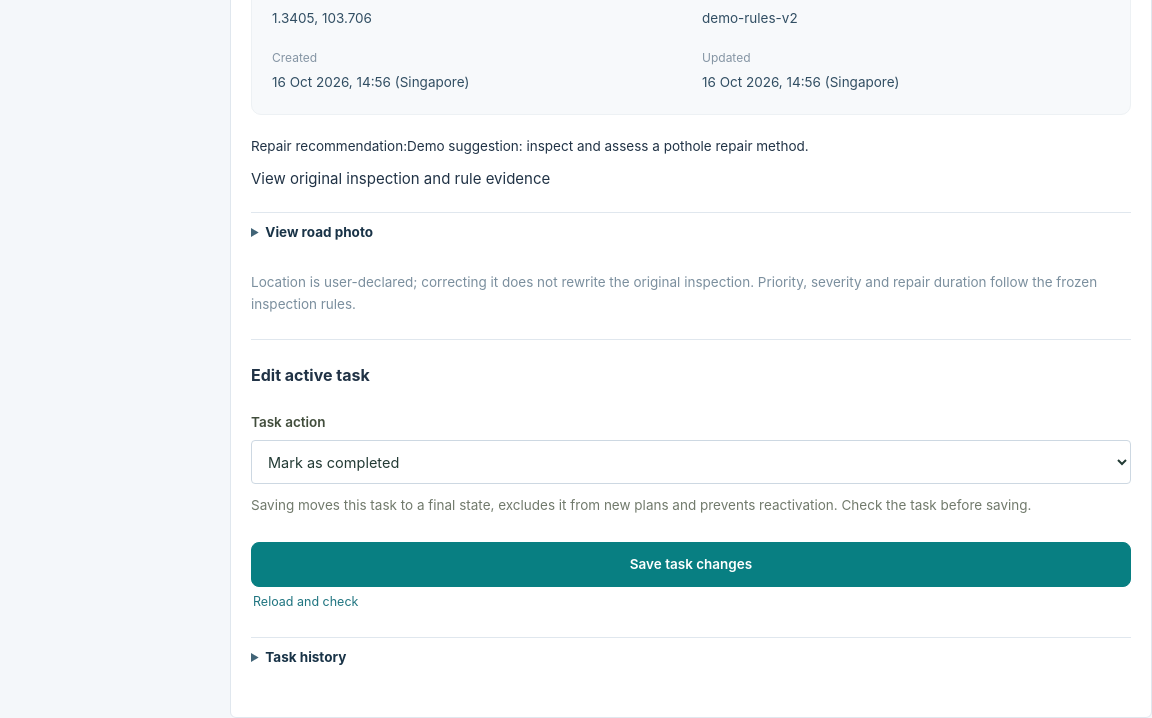
Test: locks editing and retries the exact original operation after unknown outcome
(page scrolled)
Step 1. Click the button "Save task changes" → (691, 564), box [251, 542, 1131, 587]
(page scrolled)
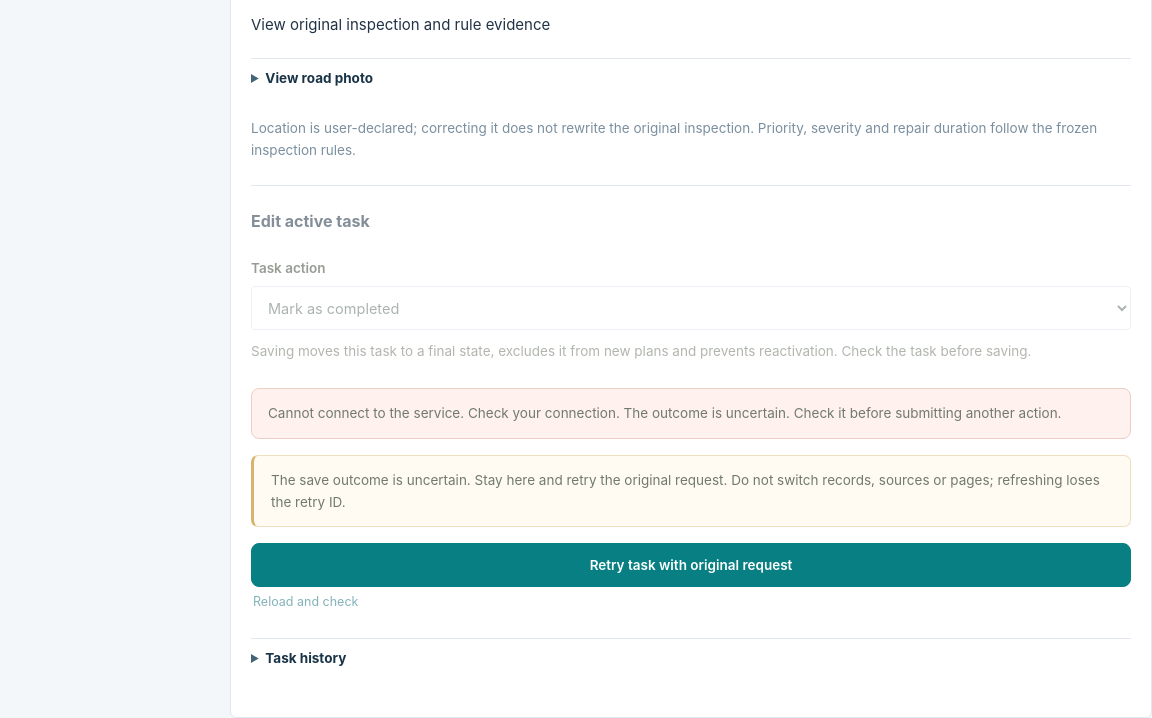
Expected: the dropdown labelled "Task action" is disabled, [251, 286, 1131, 330]
Step 2. Click the button "Retry task with original request" → (691, 565), box [251, 543, 1131, 587]
(page scrolled)
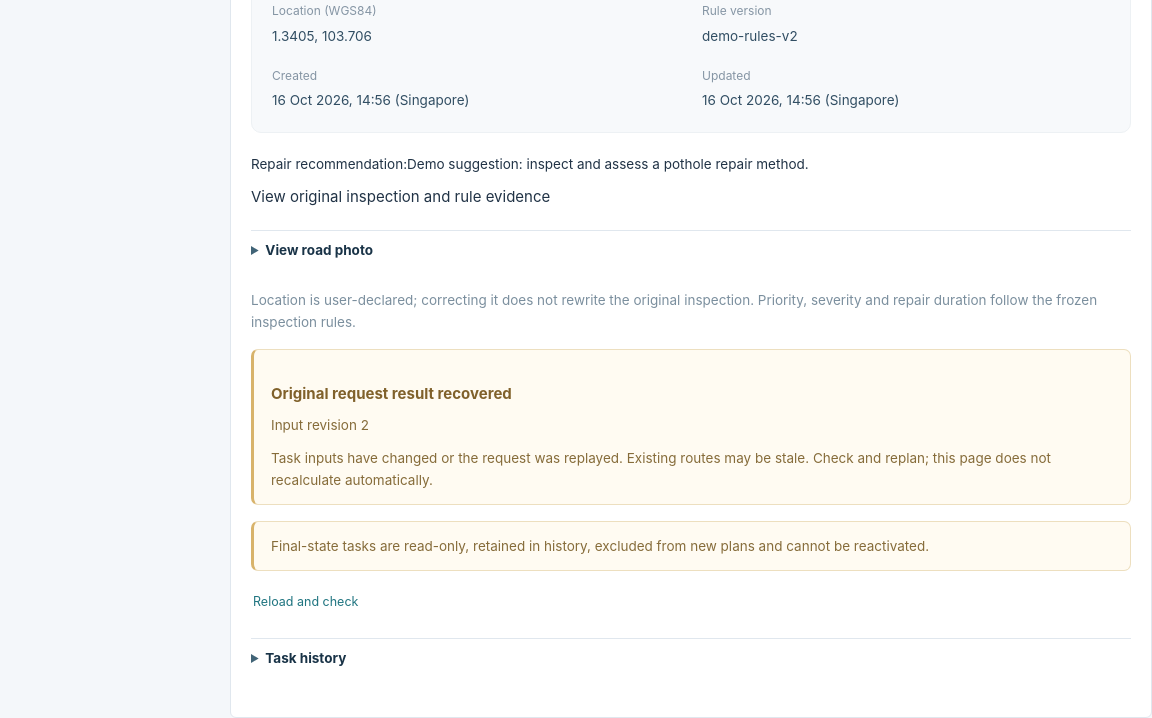
Result: the heading "Original request result recovered" is shown at [271, 384, 512, 403]
